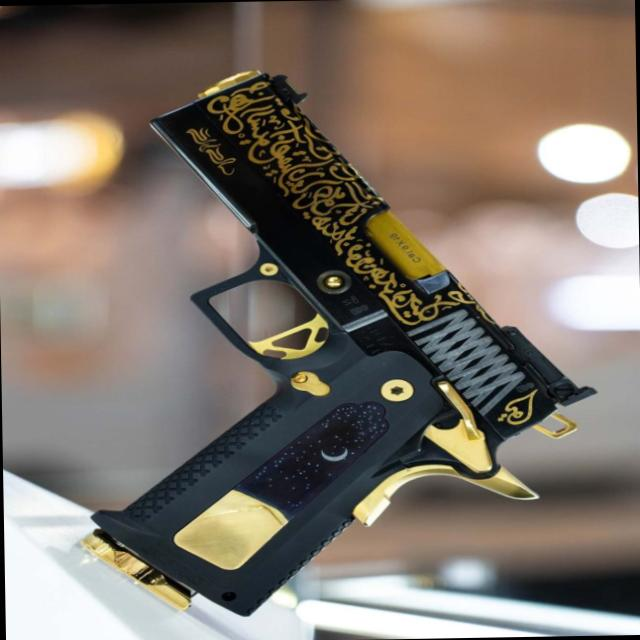Gun: (66, 64, 588, 594)
